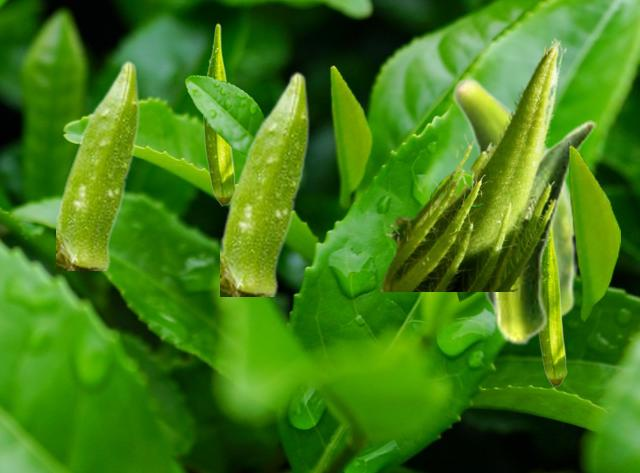okra: (377, 37, 566, 290), (451, 76, 578, 319), (490, 120, 595, 345), (220, 70, 309, 295), (56, 59, 139, 269), (203, 23, 235, 205), (538, 232, 566, 386)
